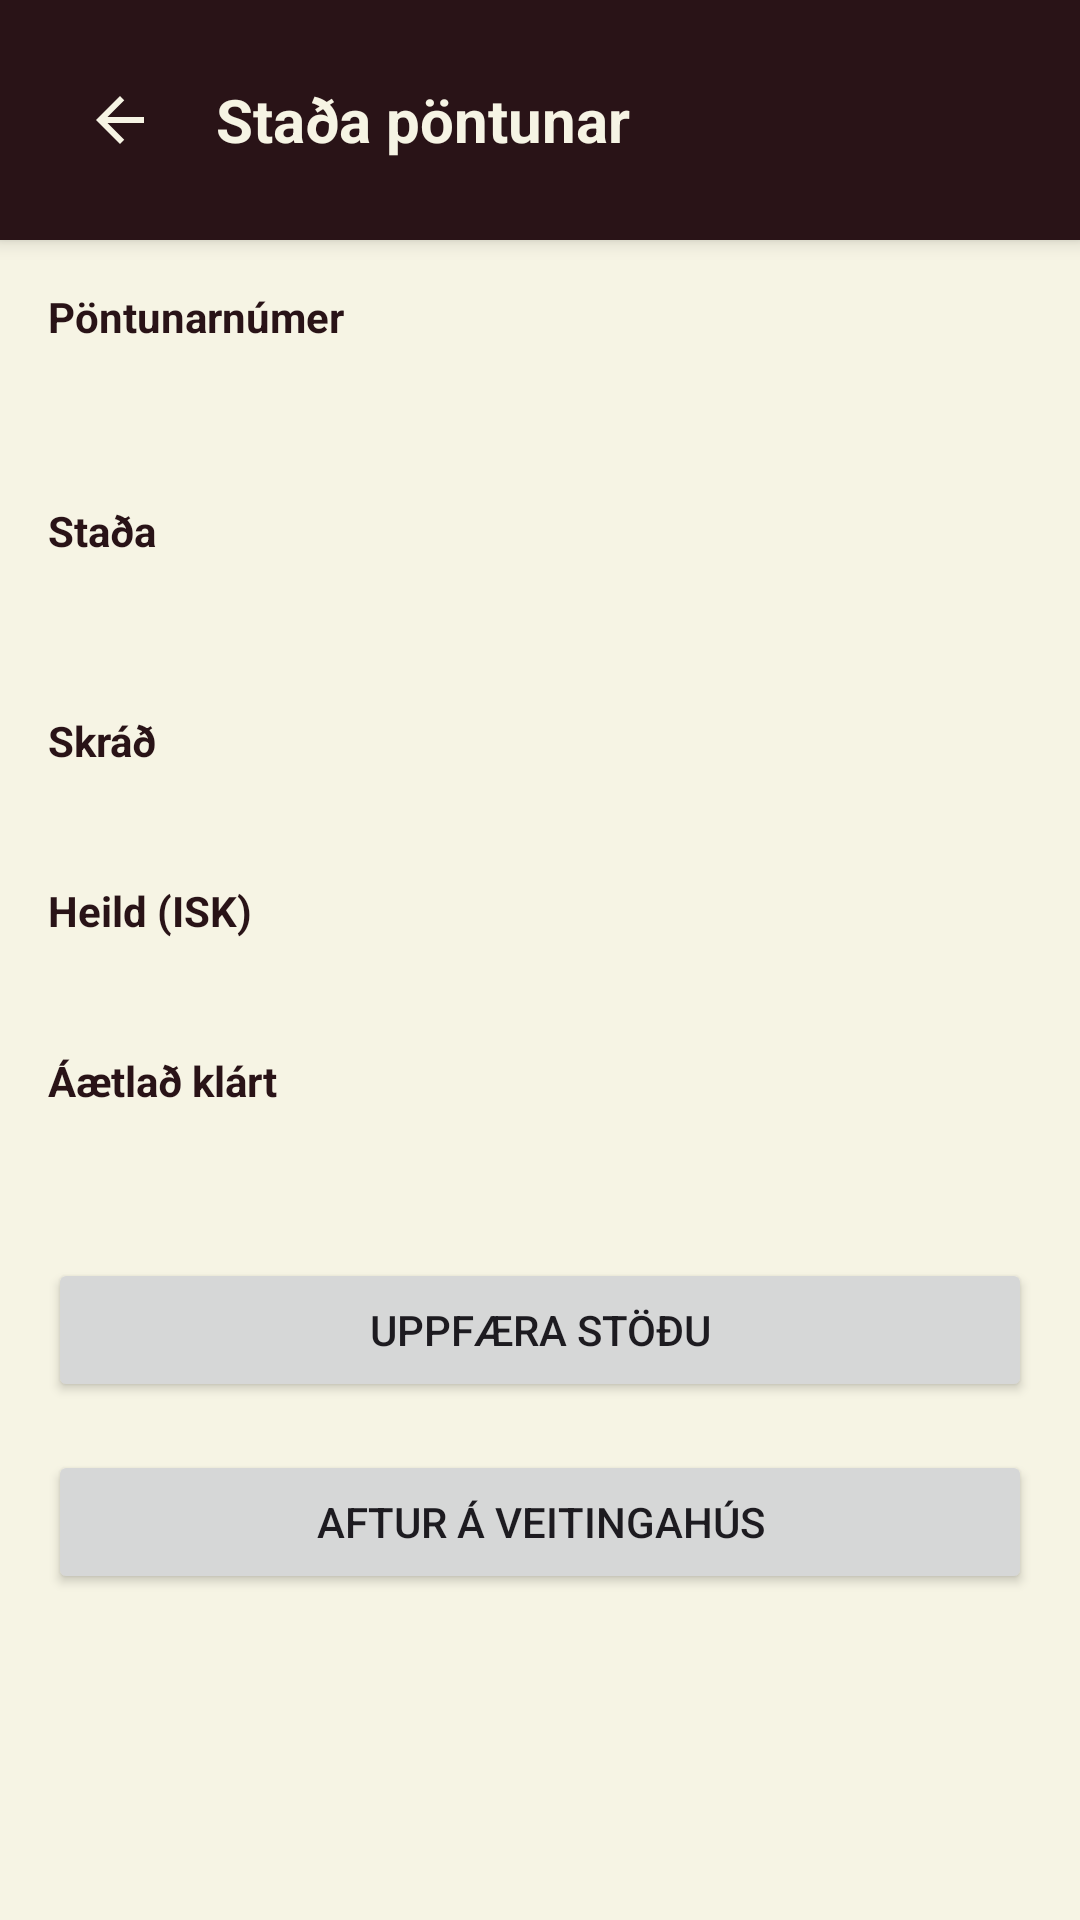

Icon click points for this 1080px×1920px phone screenshot, format (x,y):
Til baka: (120,120)
